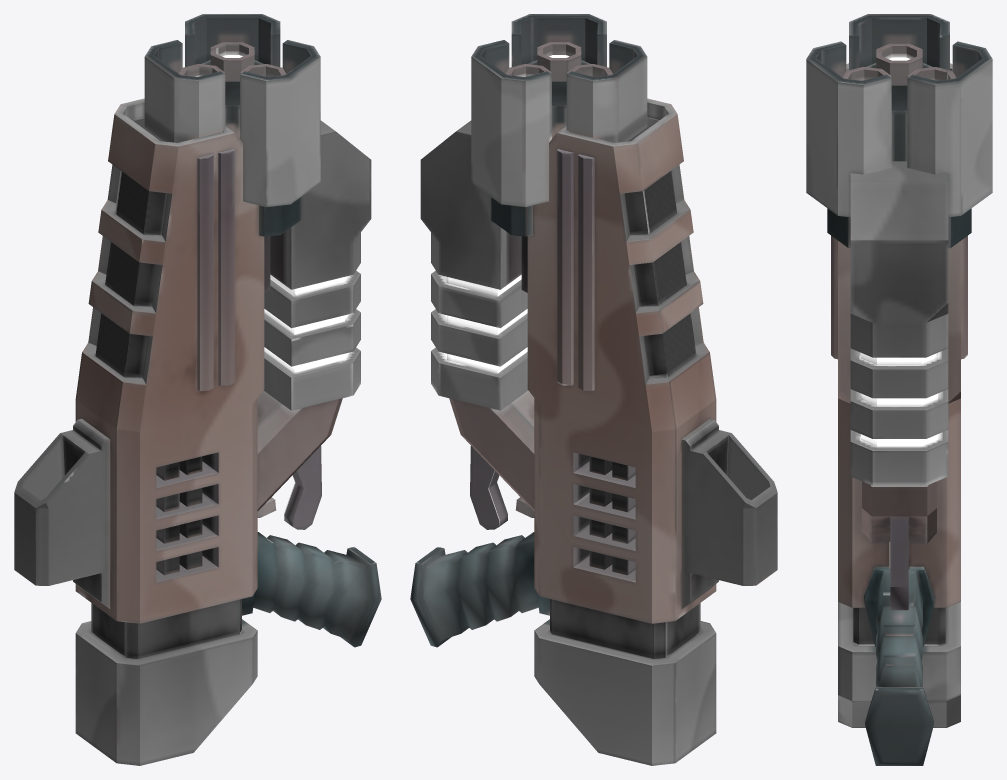
Rendered from HandGun.fbx.
The picture shows the model from 3 angles, left to right: view 1: azimuth 30°, elevation 25°; view 2: azimuth 150°, elevation 25°; view 3: azimuth 270°, elevation 25°; orthographic projection. The views are drawn at different scales.
Parts seen in each view (by area): view 1: HandGun; view 2: HandGun; view 3: HandGun.
Part boxes in pixels (x1,y1,x2,y2): HandGun: (14,14,381,765); HandGun: (410,14,777,765); HandGun: (806,14,992,765).
Size of the model in its own units: 0.1789 by 0.3334 by 0.0799.
Materials: 1 (1 with a texture image).
